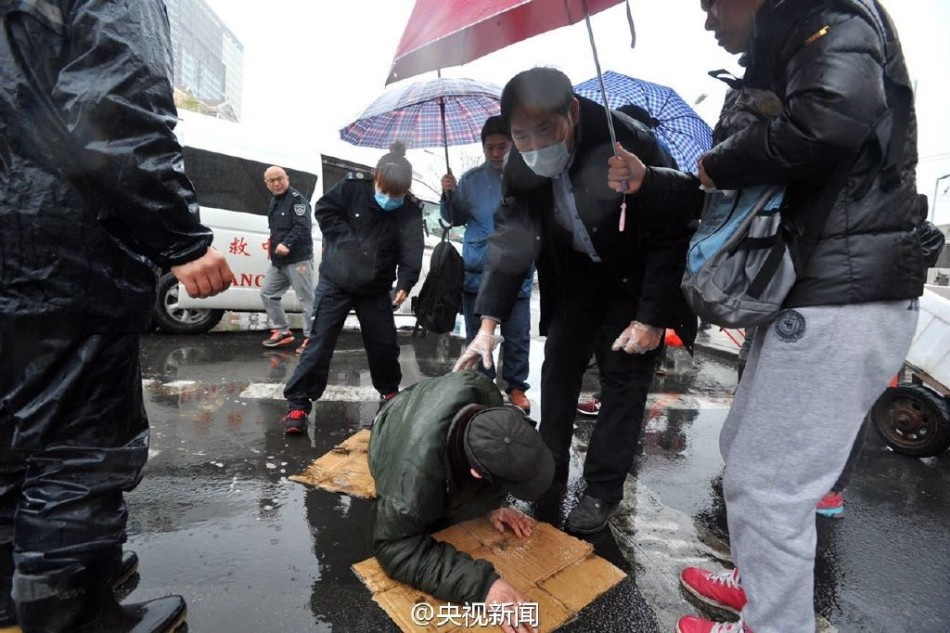falling: (350, 351, 565, 626)
